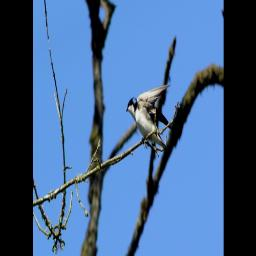Swallow: (124, 74, 180, 173)
